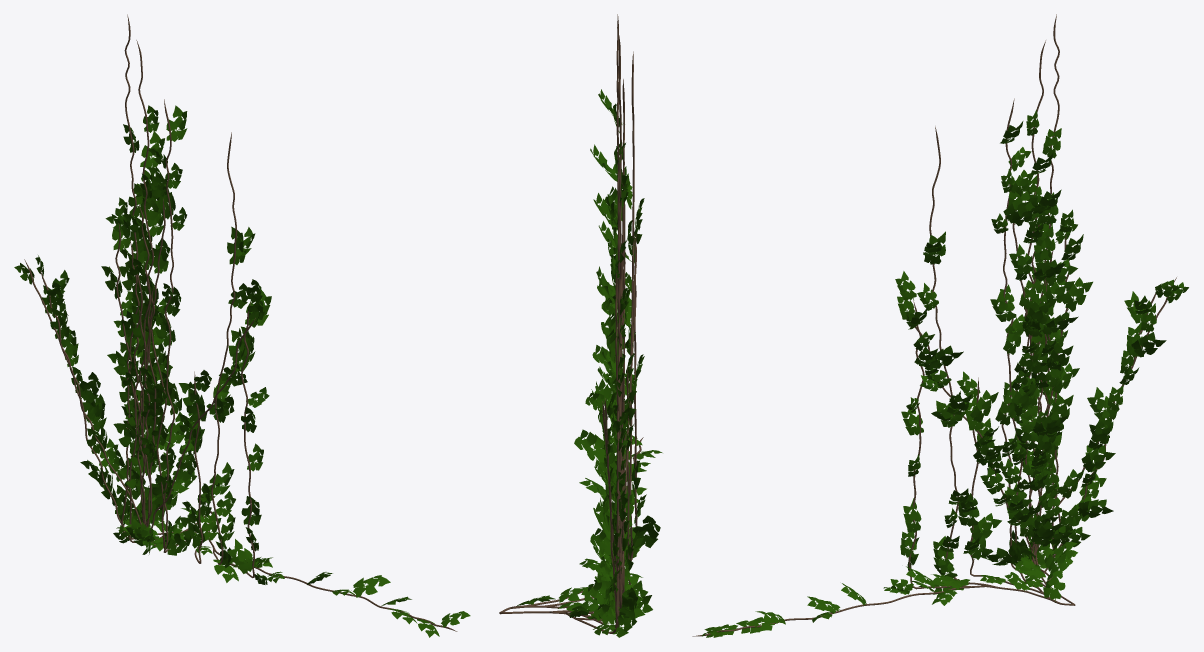
Rendered from Vine02.fbx.
The picture shows the model from 3 angles, left to right: view 1: azimuth 30°, elevation 25°; view 2: azimuth 150°, elevation 25°; view 3: azimuth 270°, elevation 25°; orthographic projection. The views are drawn at different scales.
Visible parts, largest first — view 1: rickyVines02; view 2: rickyVines02; view 3: rickyVines02.
Boxes of the visible parts, x1=… form: rickyVines02: x1=14, y1=14, x2=470, y2=637; rickyVines02: x1=499, y1=14, x2=662, y2=637; rickyVines02: x1=692, y1=14, x2=1188, y2=637.
Bounding box in the file's own units: 2.08 × 4.83 × 3.92.
